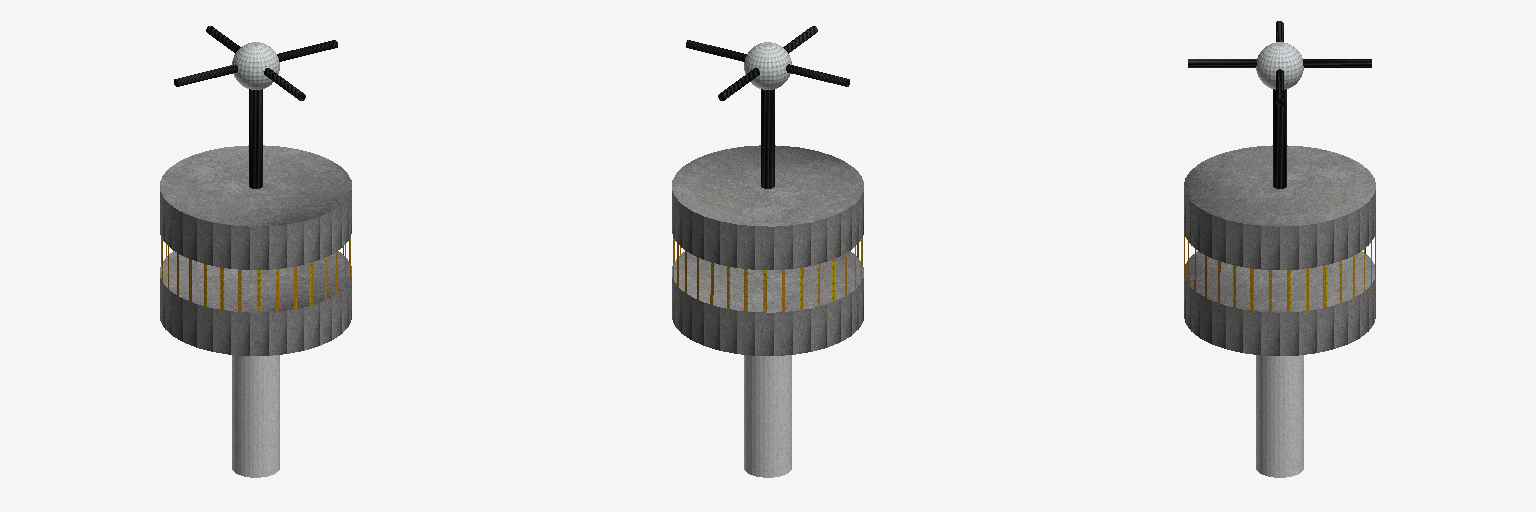
3 views of the same model, side by side, from view 1: azimuth 30°, elevation 25°; view 2: azimuth 150°, elevation 25°; view 3: azimuth 270°, elevation 25° (orthographic).
Visible parts, largest first — view 1: Cylinder.003_Cylinder.006, Cylinder, Cylinder.001, Sphere_Sphere.001, Cylinder.002_Cylinder.005, Cylinder.004, Cylinder.006_Cylinder.008, Cylinder.005_Cylinder.007; view 2: Cylinder.003_Cylinder.006, Cylinder, Cylinder.001, Cylinder.002_Cylinder.005, Sphere_Sphere.001, Cylinder.004, Cylinder.006_Cylinder.008, Cylinder.005_Cylinder.007; view 3: Cylinder.003_Cylinder.006, Cylinder, Cylinder.001, Sphere_Sphere.001, Cylinder.002_Cylinder.005, Cylinder.004, Cylinder.005_Cylinder.007.
Boxes of the visible parts, <box> form: Cylinder.003_Cylinder.006: <box>160,145,351,269</box>; Cylinder: <box>160,251,351,355</box>; Cylinder.001: <box>232,355,279,477</box>; Sphere_Sphere.001: <box>232,42,279,89</box>; Cylinder.002_Cylinder.005: <box>161,237,350,311</box>; Cylinder.004: <box>249,89,262,188</box>; Cylinder.006_Cylinder.008: <box>174,40,337,86</box>; Cylinder.005_Cylinder.007: <box>206,26,305,100</box>; Cylinder.003_Cylinder.006: <box>672,145,863,269</box>; Cylinder: <box>672,251,863,355</box>; Cylinder.001: <box>744,355,791,477</box>; Cylinder.002_Cylinder.005: <box>673,237,862,311</box>; Sphere_Sphere.001: <box>744,42,791,89</box>; Cylinder.004: <box>761,89,774,188</box>; Cylinder.006_Cylinder.008: <box>686,40,849,86</box>; Cylinder.005_Cylinder.007: <box>718,26,817,100</box>; Cylinder.003_Cylinder.006: <box>1184,145,1375,269</box>; Cylinder: <box>1184,251,1375,355</box>; Cylinder.001: <box>1256,355,1303,477</box>; Sphere_Sphere.001: <box>1256,42,1303,89</box>; Cylinder.002_Cylinder.005: <box>1184,233,1375,311</box>; Cylinder.004: <box>1273,89,1286,188</box>; Cylinder.005_Cylinder.007: <box>1188,59,1371,67</box>.
Size of the model in its own units: 8.02 by 19.41 by 8.01.
7 materials, 5 textured.